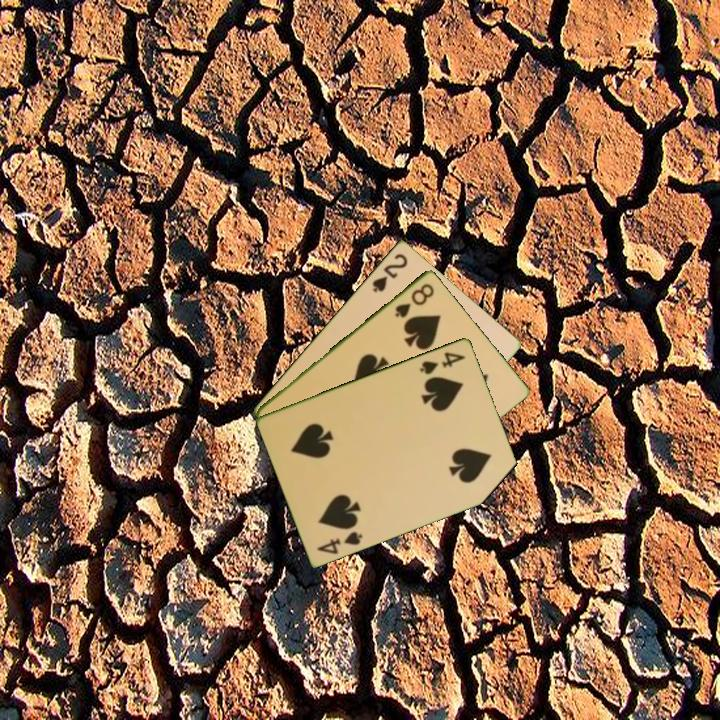2s: (368, 249, 411, 295)
4s: (313, 527, 366, 557), (416, 348, 468, 377)
8s: (391, 279, 437, 321)
